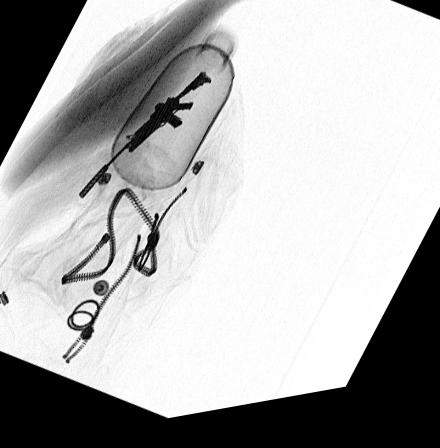Gun: (77, 78, 211, 200)
